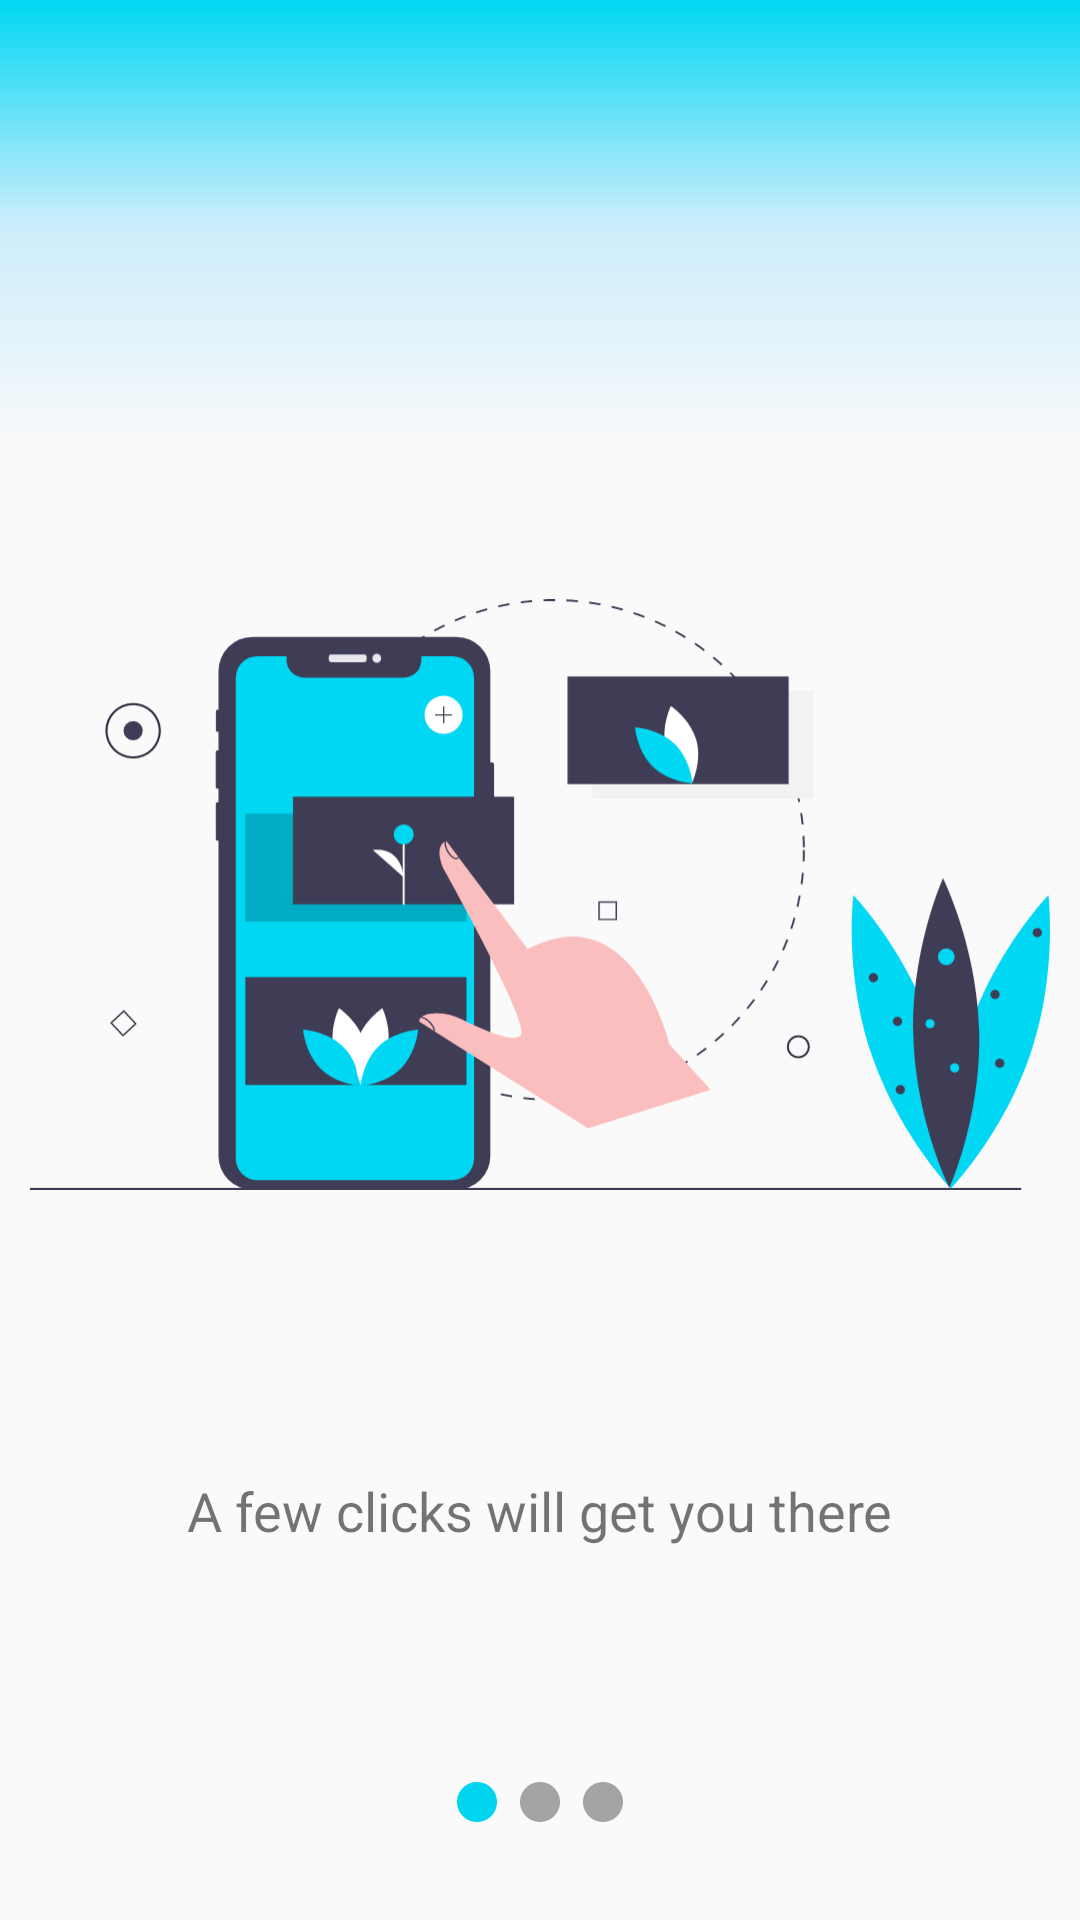

Icons on this 1080x1920 Android screen, each with its box as (left=x1, top=y1, right=x2, bottom=y2):
dot: (left=457, top=1782, right=497, bottom=1822)
dot not: (left=520, top=1782, right=560, bottom=1822), (left=583, top=1782, right=623, bottom=1822)
